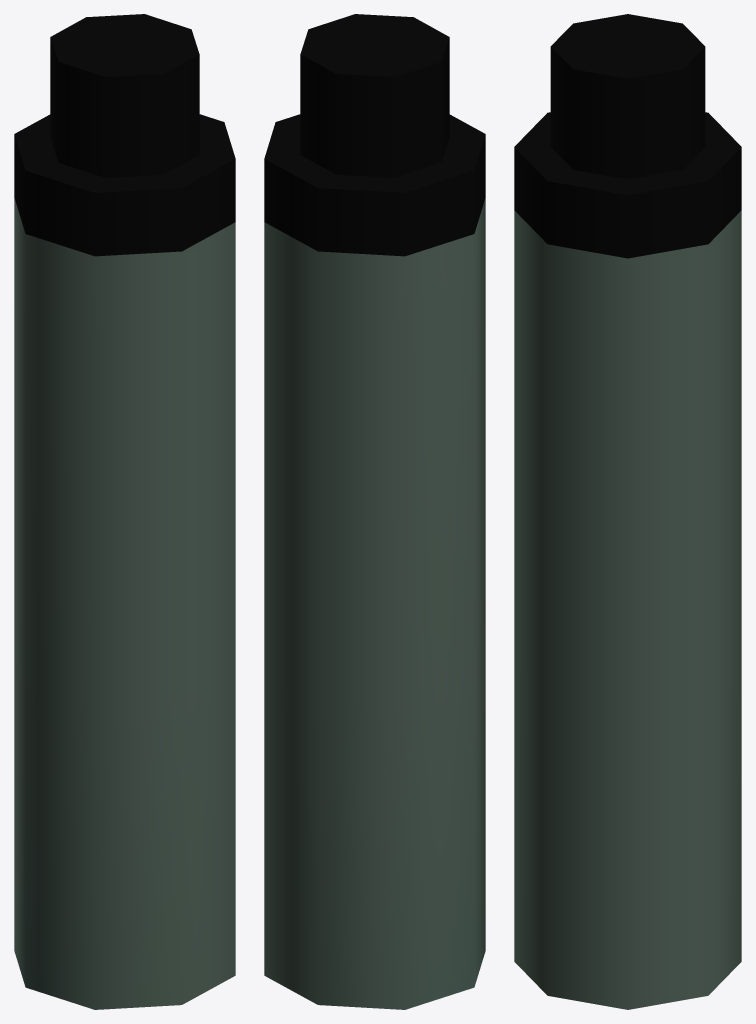
The picture shows the model from 3 angles, left to right: view 1: azimuth 30°, elevation 25°; view 2: azimuth 150°, elevation 25°; view 3: azimuth 270°, elevation 25°; orthographic projection.
Parts seen in each view (by area): view 1: Joint_0_Object_0; view 2: Joint_0_Object_0; view 3: Joint_0_Object_0.
Boxes of the visible parts, left/top/right/bottom form: Joint_0_Object_0: left=14, top=14, right=235, bottom=1009; Joint_0_Object_0: left=264, top=14, right=485, bottom=1009; Joint_0_Object_0: left=514, top=14, right=741, bottom=1009.
Size of the model in its own units: 40.26 by 178 by 39.99.
